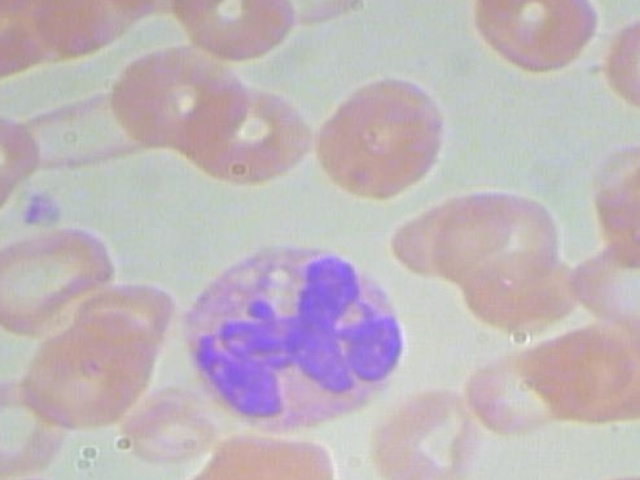RBC: (303, 71, 466, 200), (418, 187, 571, 300), (100, 37, 252, 150), (0, 222, 137, 343), (366, 385, 490, 480), (461, 0, 602, 82), (173, 429, 346, 480), (566, 224, 640, 337), (0, 368, 78, 474), (167, 0, 301, 61), (591, 12, 640, 120)
WBC: (160, 236, 428, 441)
